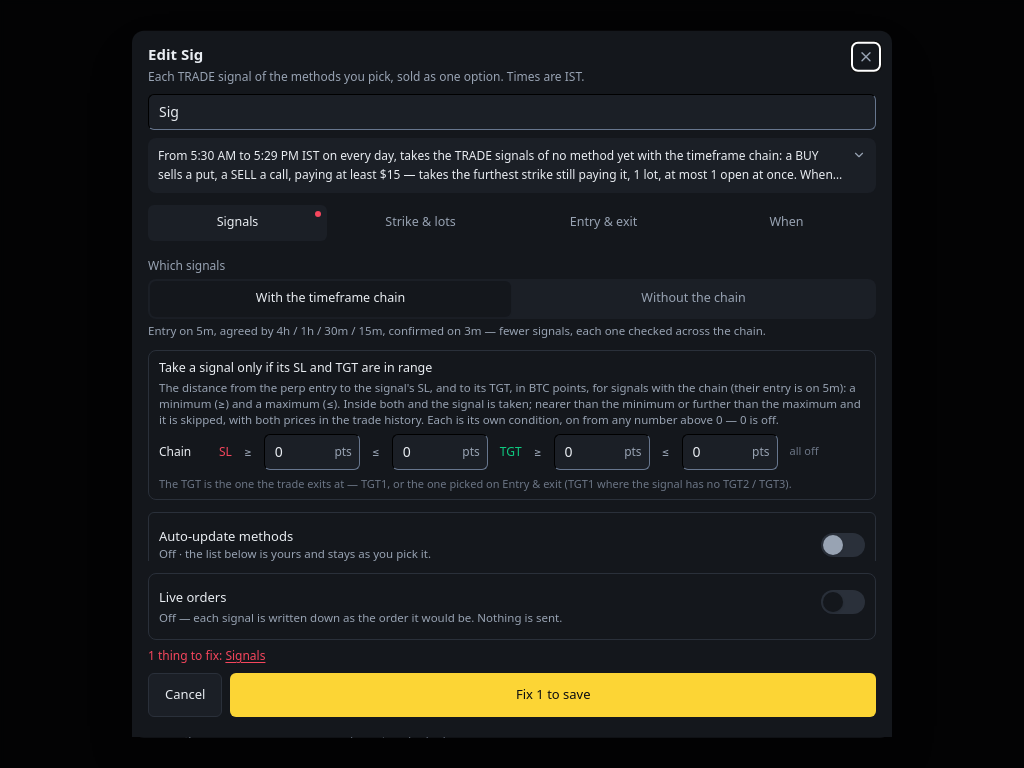
Test: picking the methods › [critical] "profitable so far" picks only a positive net over at least 5 trades
What coordinates should you click on to do the following:
click the tab "Signals"
I would click on:
 (238, 222)
Its box is [148,204,327,240].
(page scrolled)
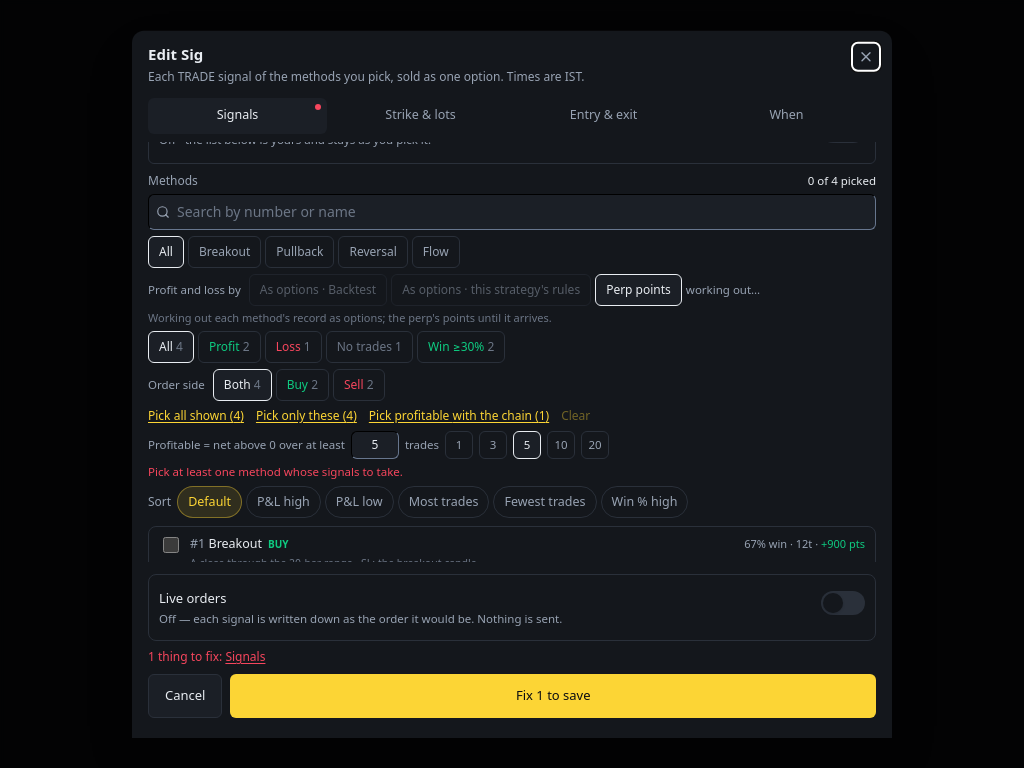
What coordinates should you click on to do the following:
click the button "Pick profitable with the chain (1)"
I would click on:
 (459, 416)
Its box is [369,406,549,424].
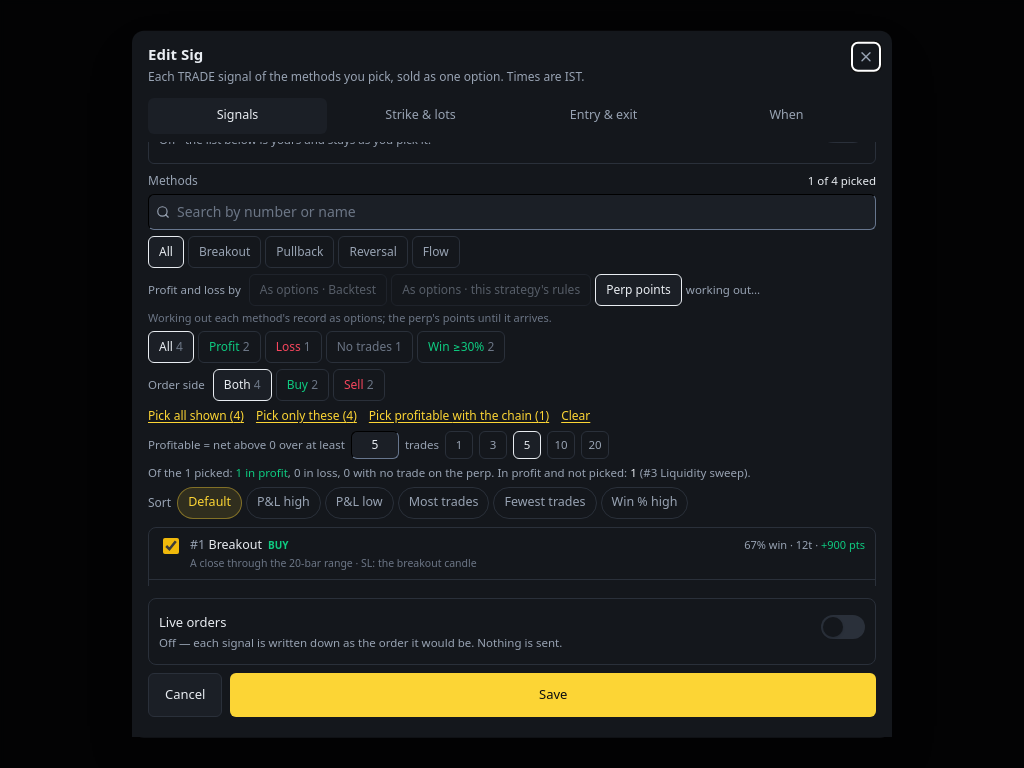
Expected: the checkbox labelled "#3 Liquidity sweep" is not checked, [163,590,179,606]
Expected: the checkbox labelled "#6 BOS" is not checked, [163,642,179,658]
Expected: the checkbox labelled "#1 Breakout" is checked, [163,537,179,553]
What coordinates should you click on to do the following:
click the button "Clear"
I would click on:
 (576, 416)
Its box is [561,406,590,424].
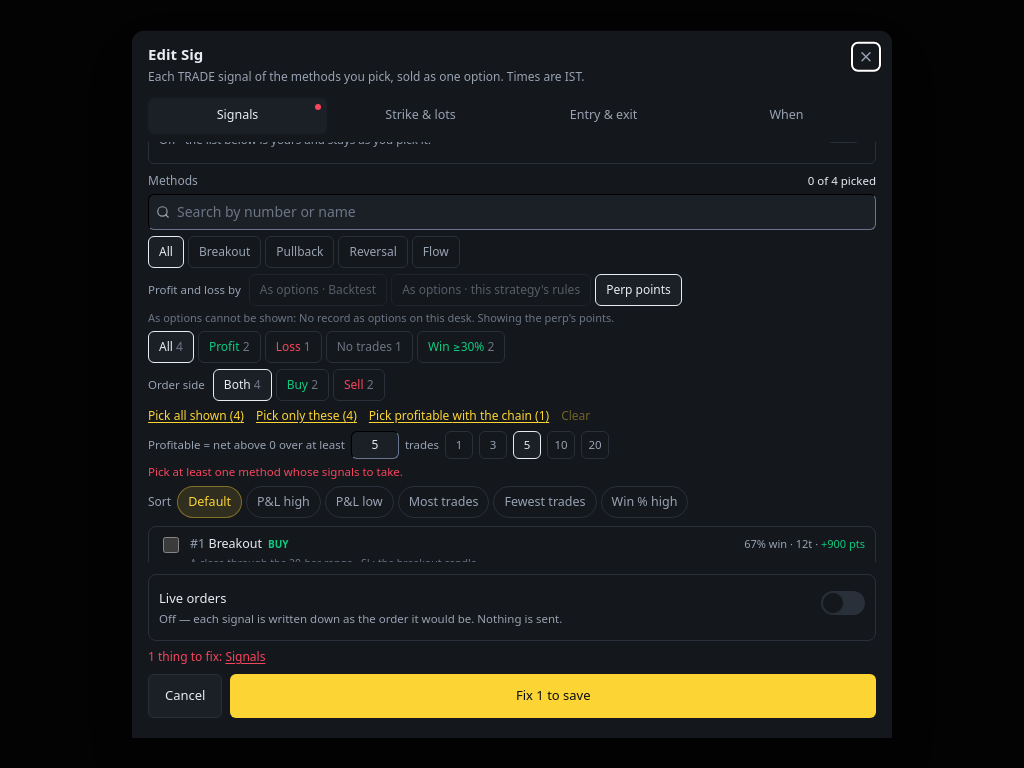
Expected: the text "0 of 4 picked" is shown, [808,172,876,189]
